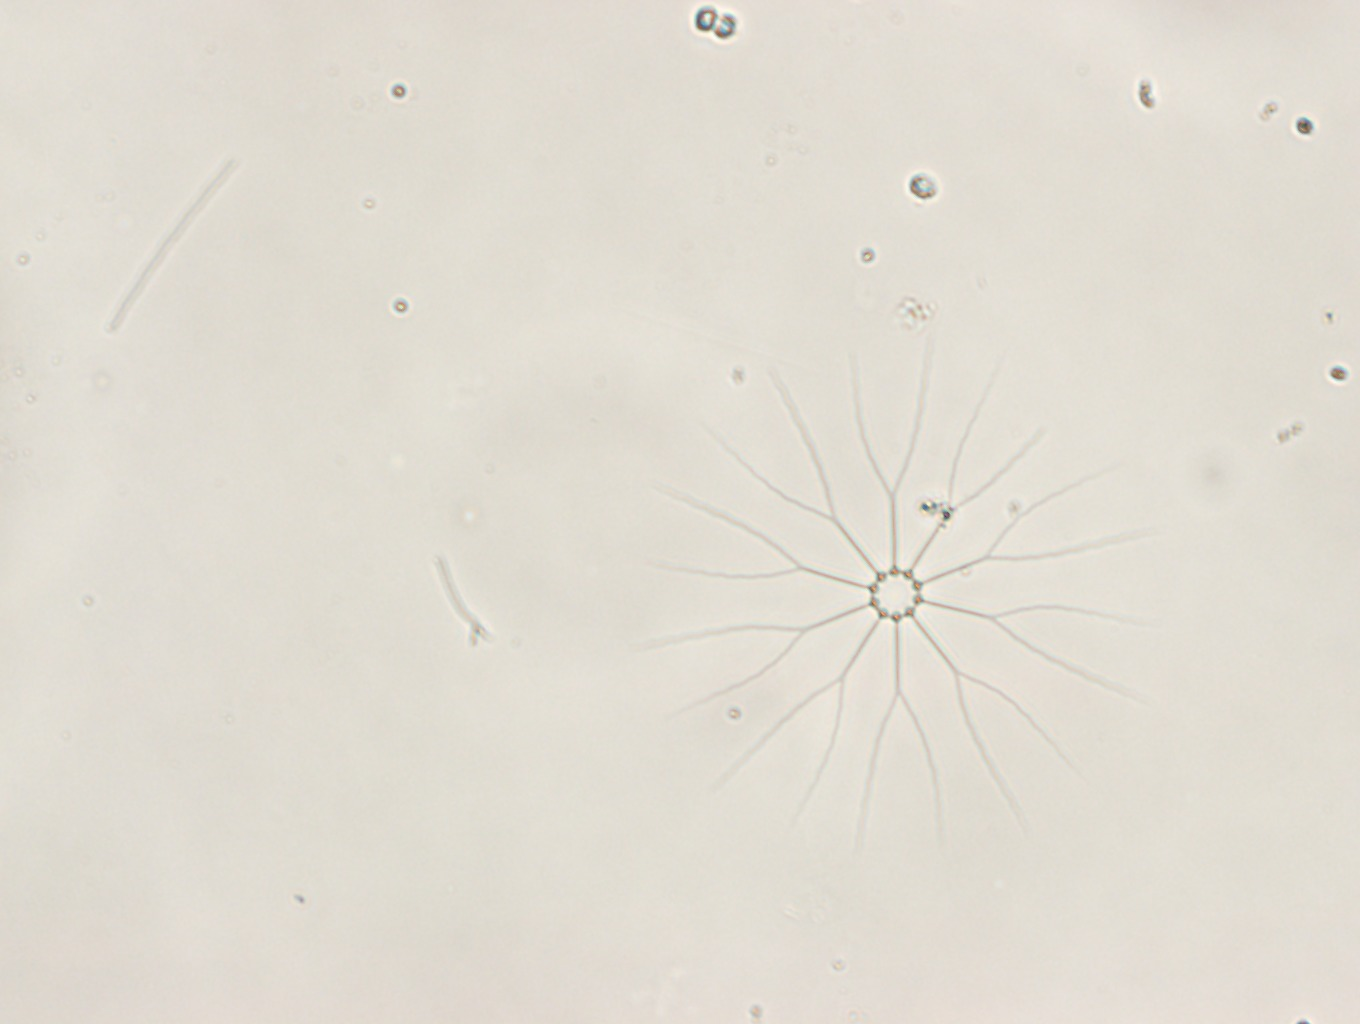bacteriastrum: (664, 343, 1145, 839)
